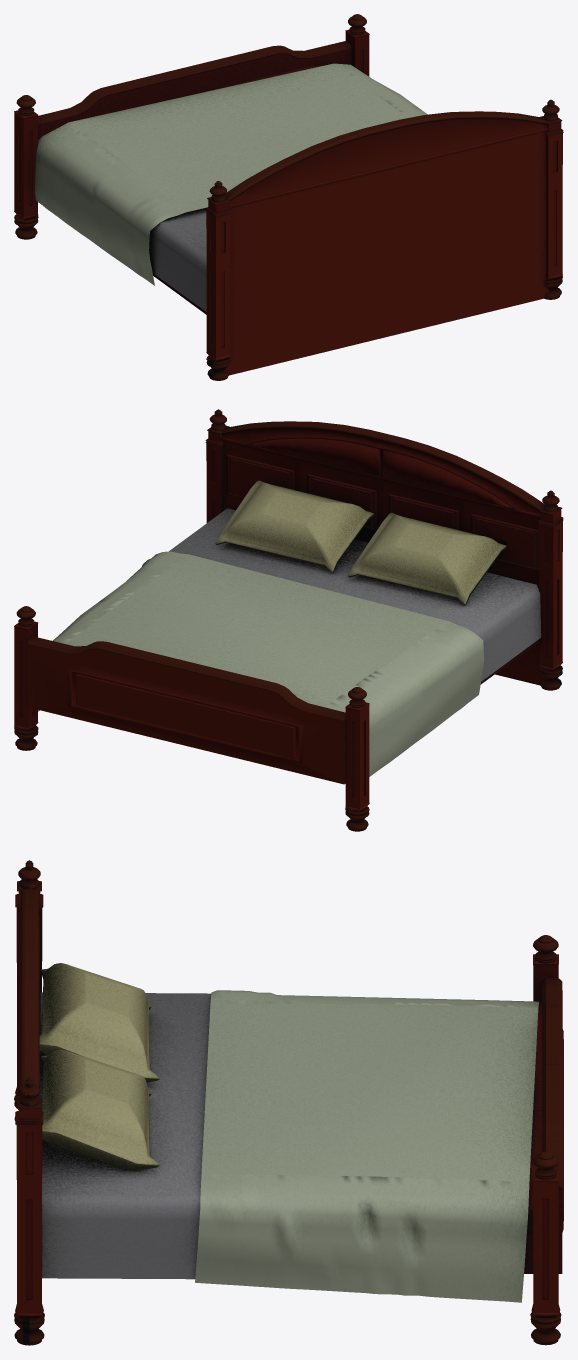
The model's file is bed10.fbx.
The picture shows the model from 3 angles, top to bottom: view 1: azimuth 30°, elevation 25°; view 2: azimuth 150°, elevation 25°; view 3: azimuth 270°, elevation 25°; orthographic projection. The views are drawn at different scales.
Parts seen in each view (by area): view 1: Box001; view 2: Box001; view 3: Box001.
Part boxes in pixels (left/top/right/bottom): Box001: left=14, top=14, right=563, bottom=380; Box001: left=14, top=409, right=563, bottom=831; Box001: left=14, top=860, right=563, bottom=1345.
Size of the model in its own units: 110 by 62.95 by 111.
